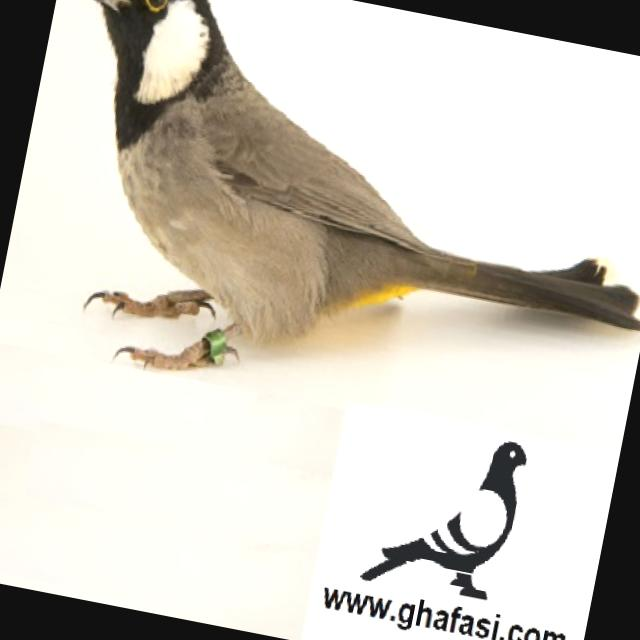bird: (0, 0, 640, 460)
